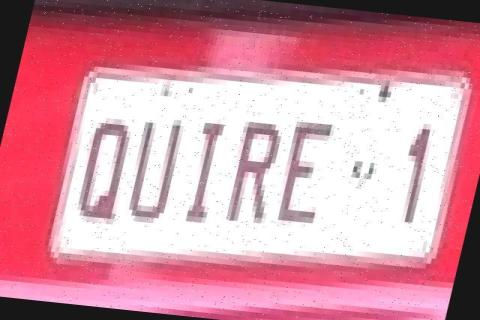LicensePlate: (34, 56, 480, 296)
